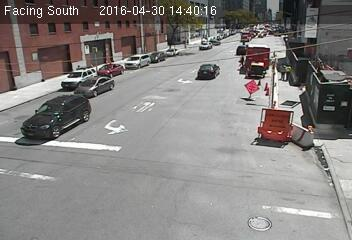neg: (147, 44, 167, 71), (82, 81, 100, 106), (195, 41, 211, 63), (110, 60, 124, 79), (213, 44, 227, 63), (177, 52, 190, 70)
pos: (269, 58, 285, 80), (284, 63, 298, 81), (237, 51, 249, 66)
